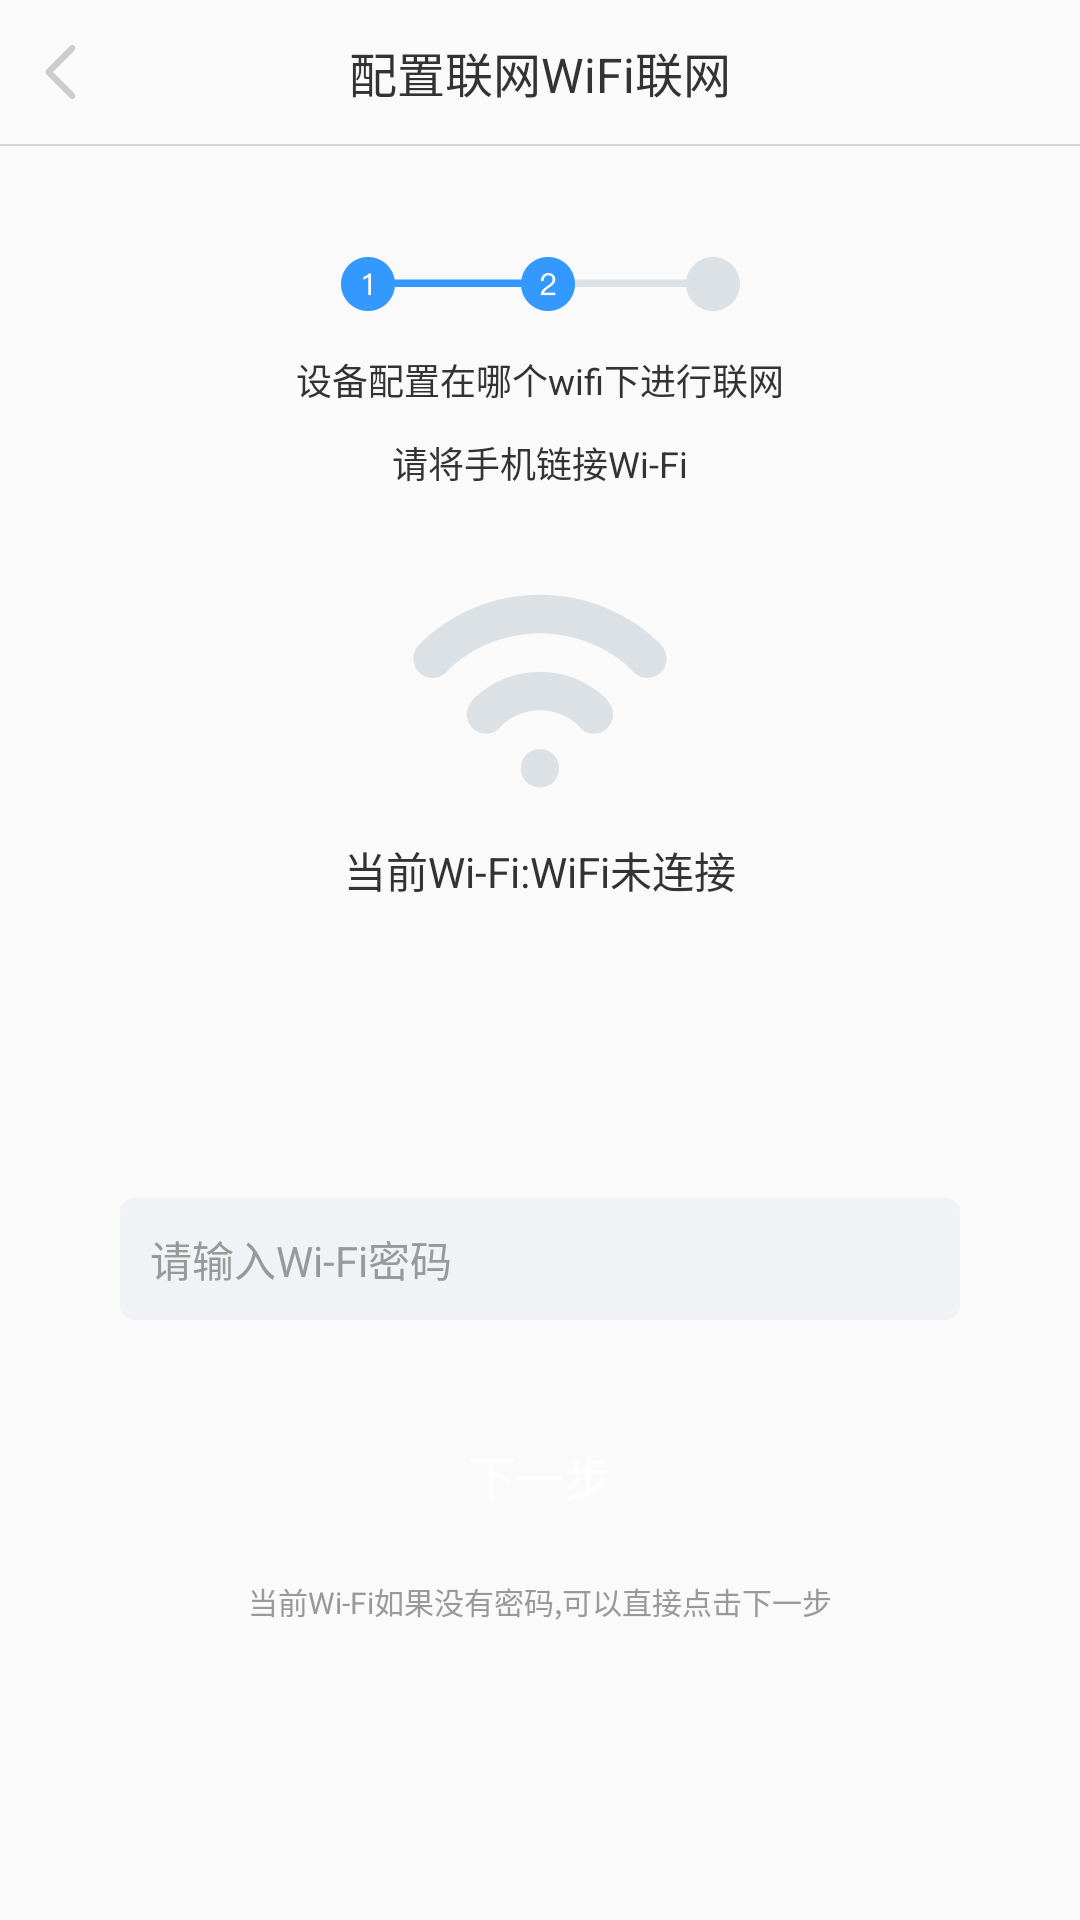

Icon click points for this 1080w x 1920h phone screenshot, format (x=x, y=y):
back: (x=60, y=72)
